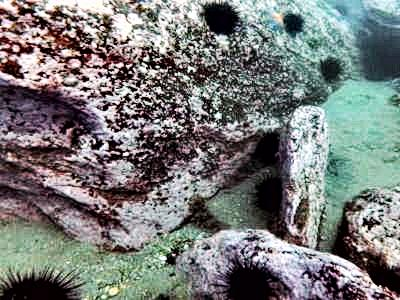urchin: (216, 249, 279, 298), (3, 267, 84, 295), (202, 3, 243, 34), (252, 174, 279, 207), (257, 132, 280, 165), (318, 58, 345, 80), (280, 13, 303, 34)
